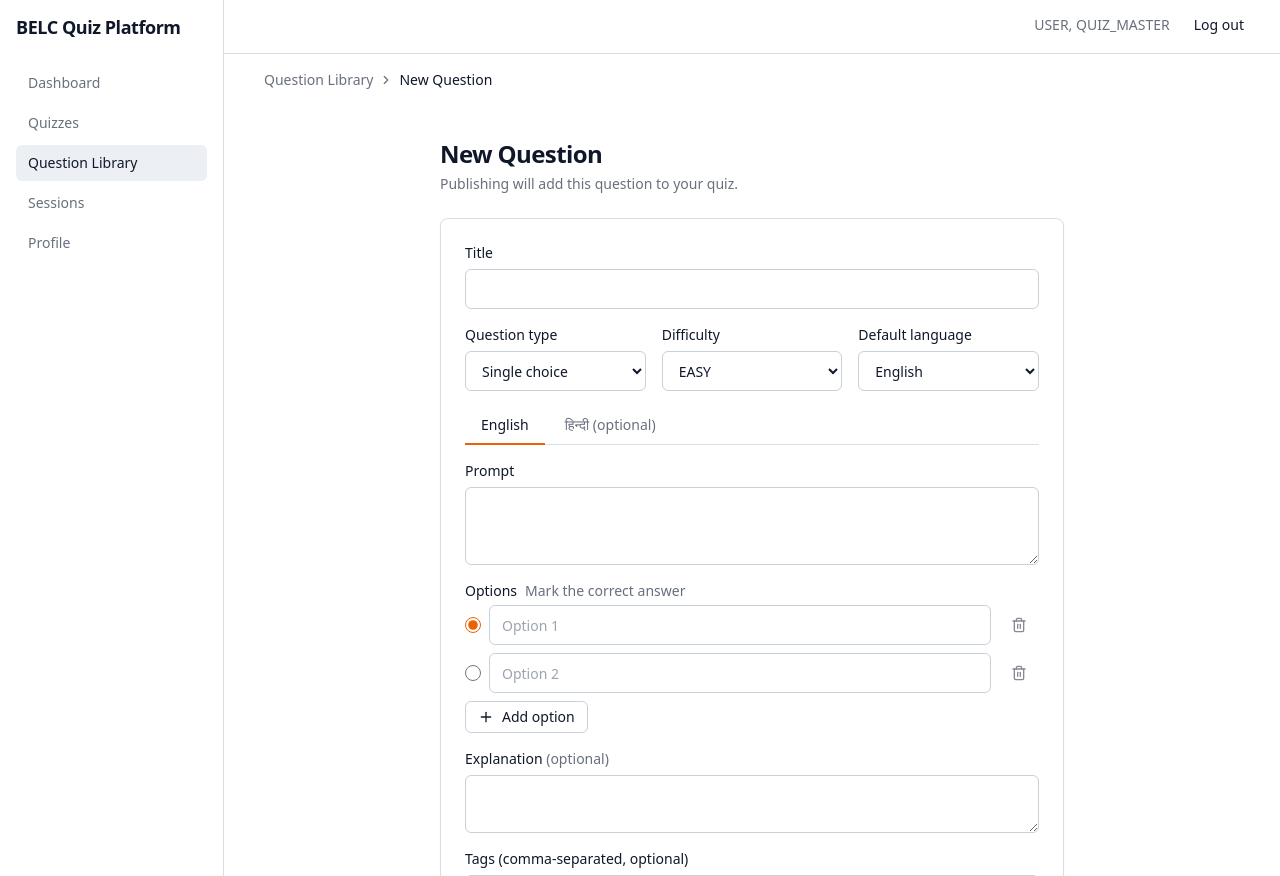
Test: CreateQuestionPage › reports the partial success honestly when attaching fails after publish
The image size is (1280, 876).
Type "Exodus leader" into the field labelled "Title".
click(752, 289); type("Exodus leader")  # box top-left (465, 269), bottom-right (1039, 309)
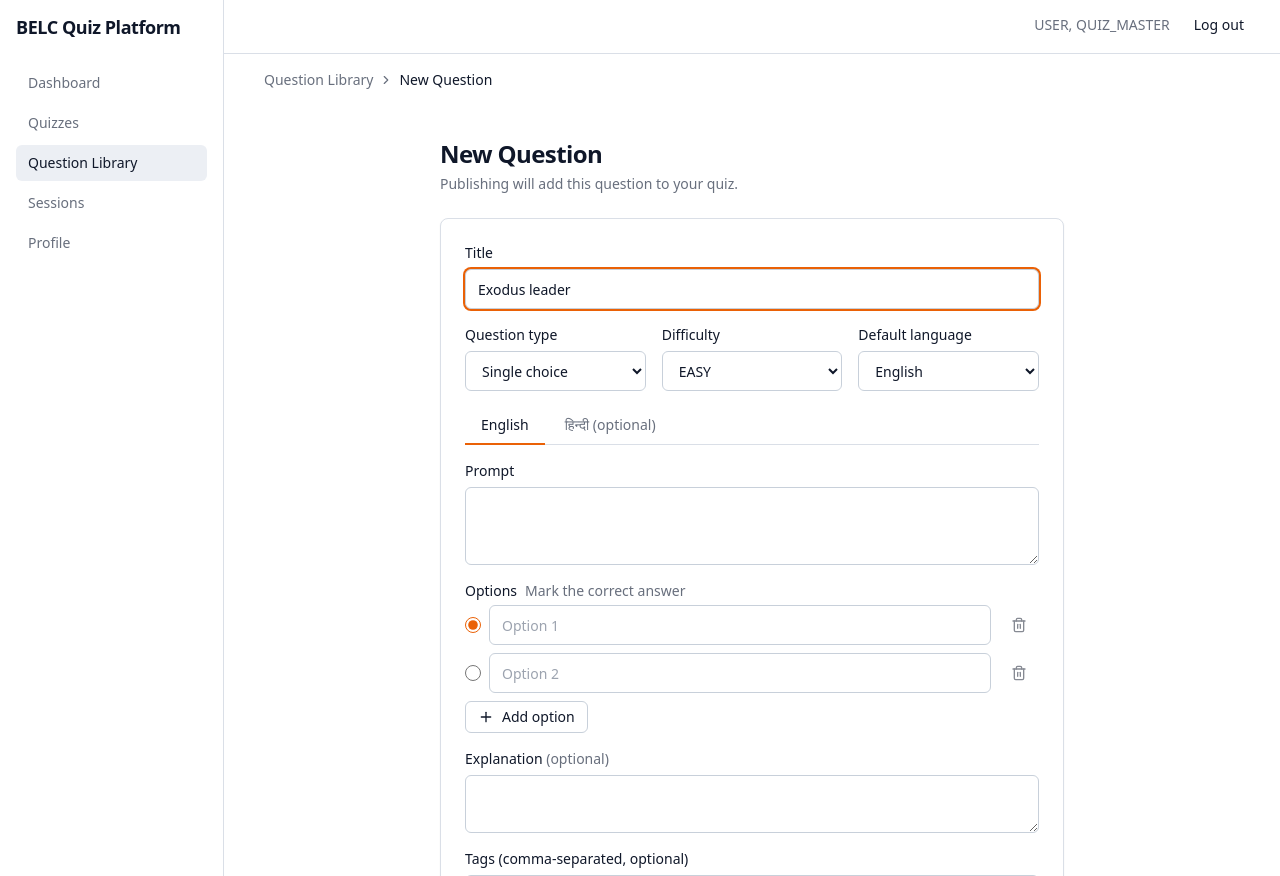
Type "Who led Israel out of Egypt?" into the text box labelled "Prompt".
click(752, 526); type("Who led Israel out of Egypt?")  # box top-left (465, 487), bottom-right (1039, 565)
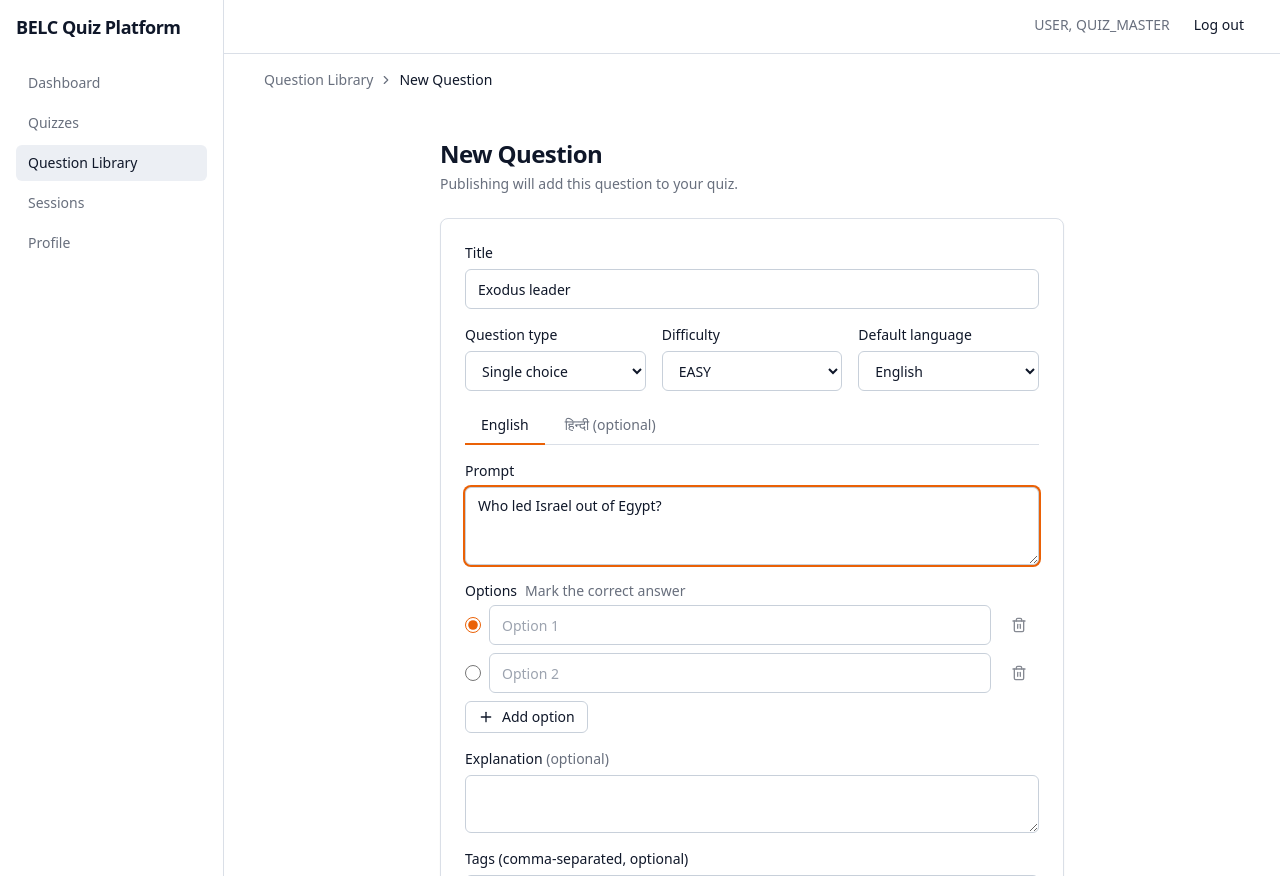
Type "Moses" into the field named "Option 1 text".
click(740, 625); type("Moses")  # box top-left (489, 605), bottom-right (991, 645)
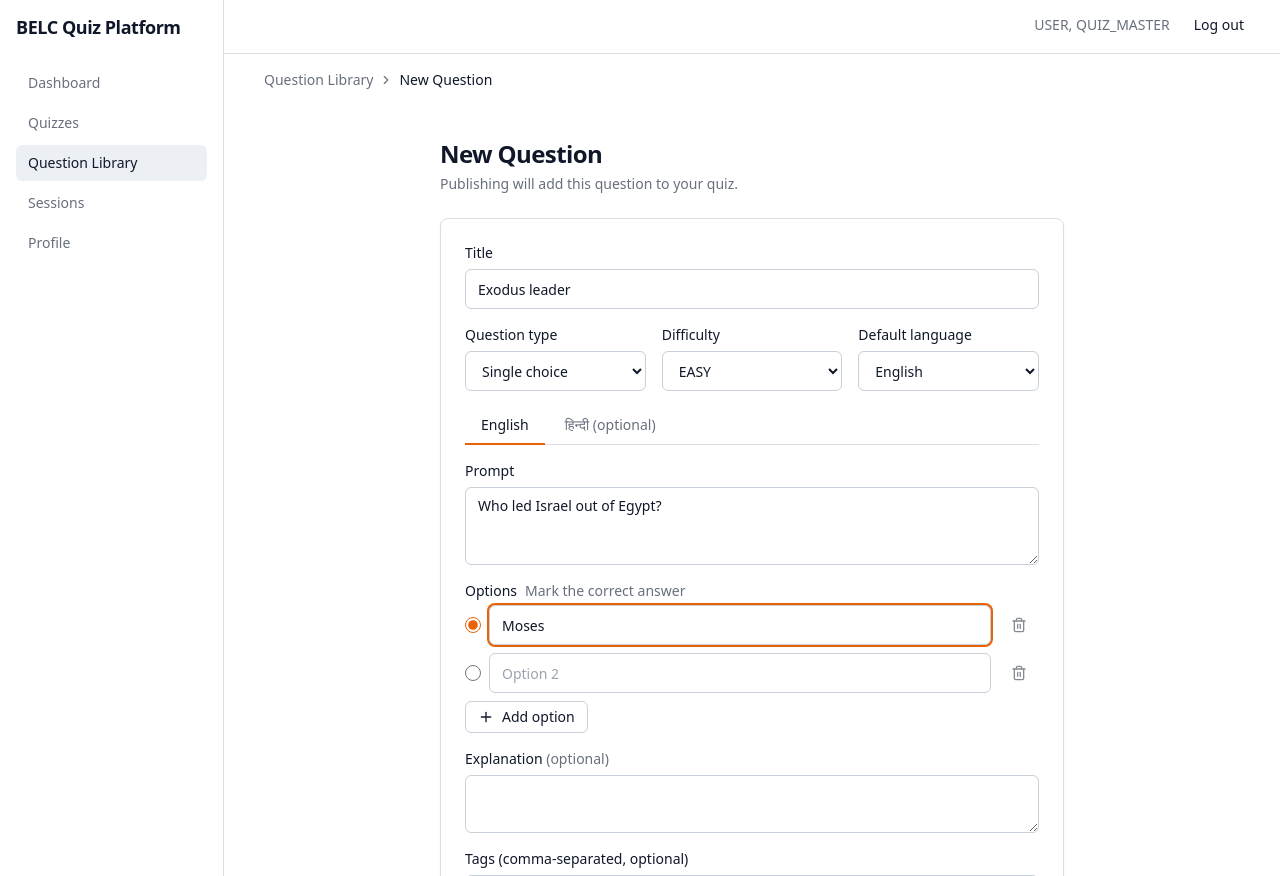
Type "Aaron" into the field named "Option 2 text".
click(740, 673); type("Aaron")  # box top-left (489, 653), bottom-right (991, 693)
(page scrolled)
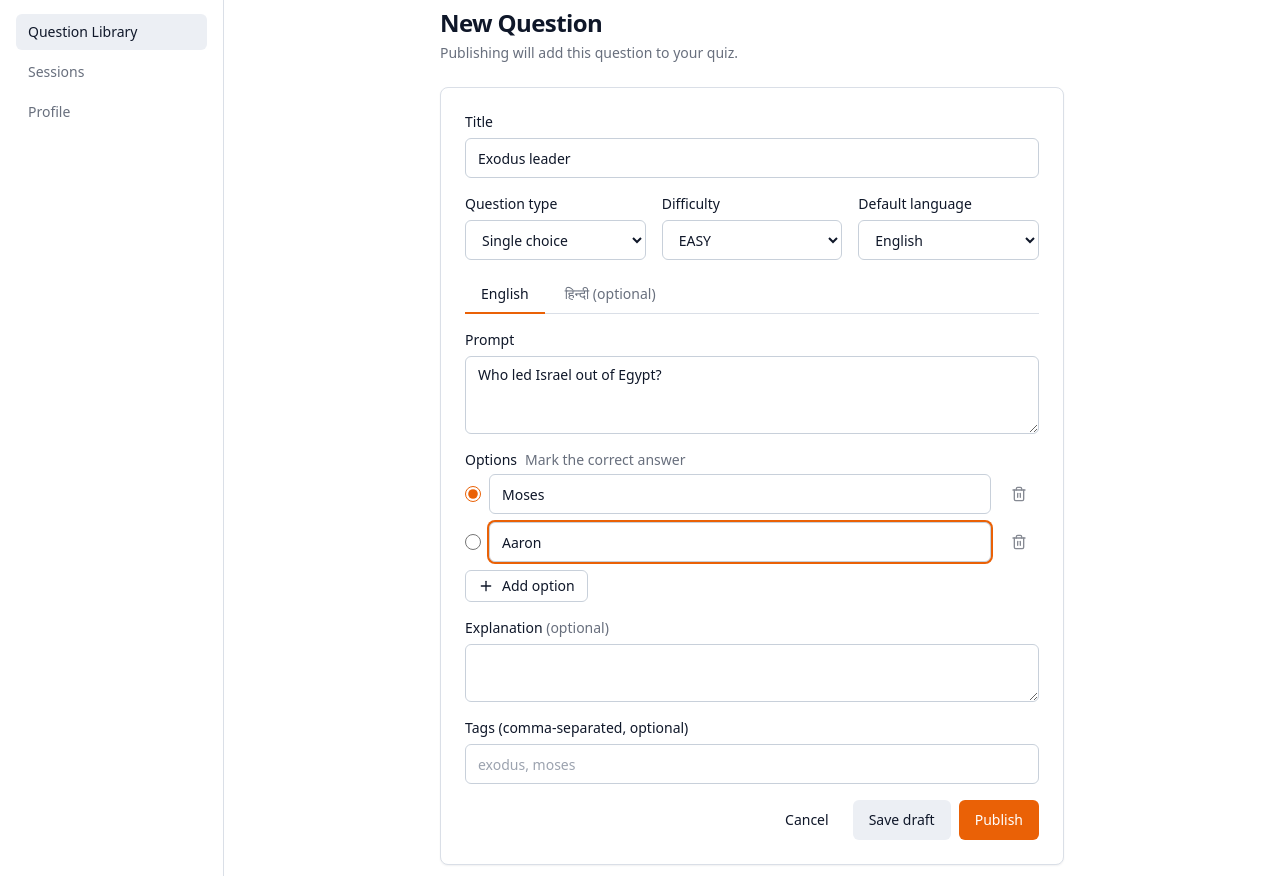
Click the button "Publish".
click(999, 820)  # box top-left (959, 800), bottom-right (1039, 840)
(page scrolled)
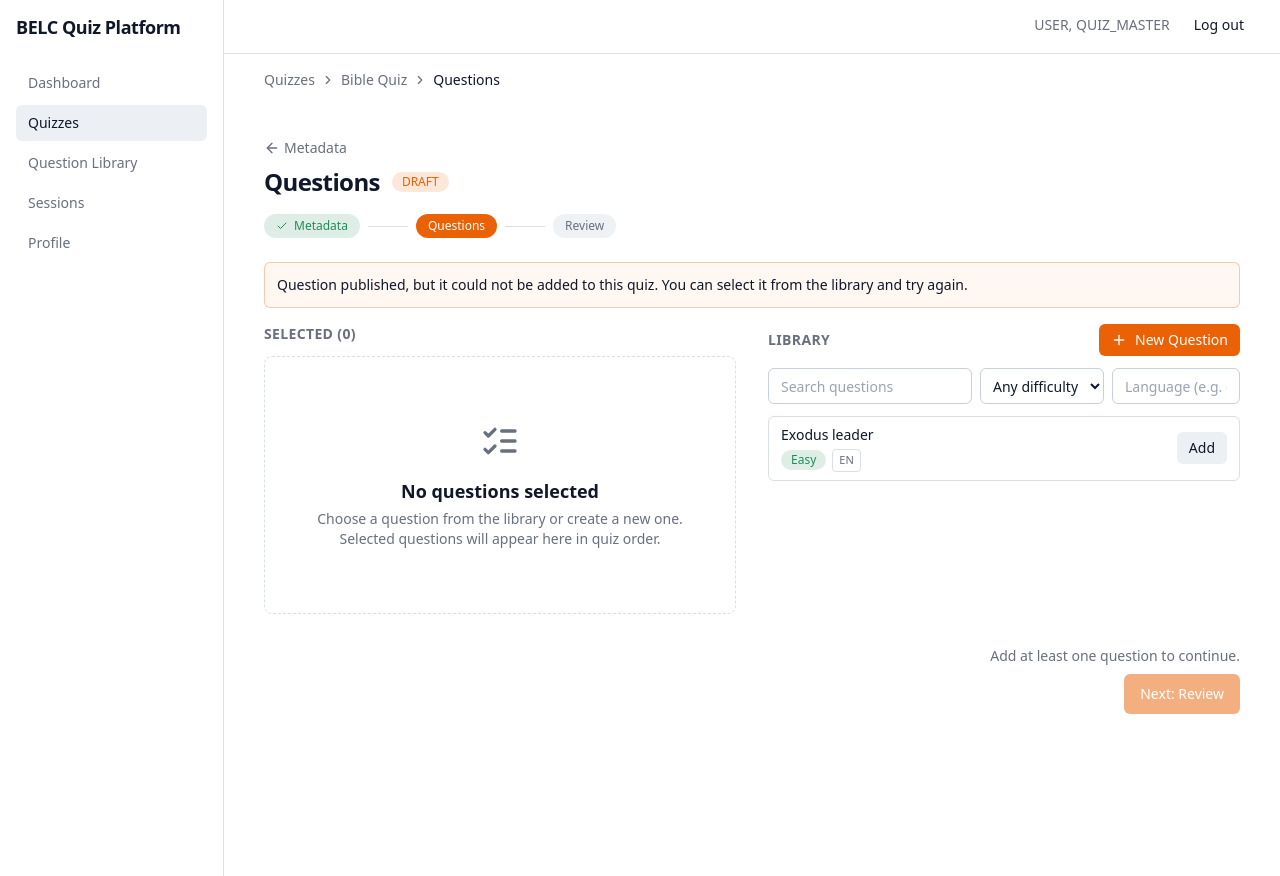
Result: the text "Question published, but it could not be added to this quiz" is shown at top-left (277, 275), bottom-right (968, 294)
Result: the heading "Selected (0)" is shown at top-left (264, 324), bottom-right (356, 343)
Result: the text "Exodus leader" is shown at top-left (781, 425), bottom-right (874, 444)
